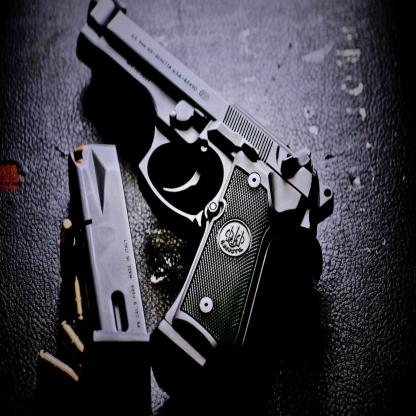handgun: (78, 0, 336, 393)
